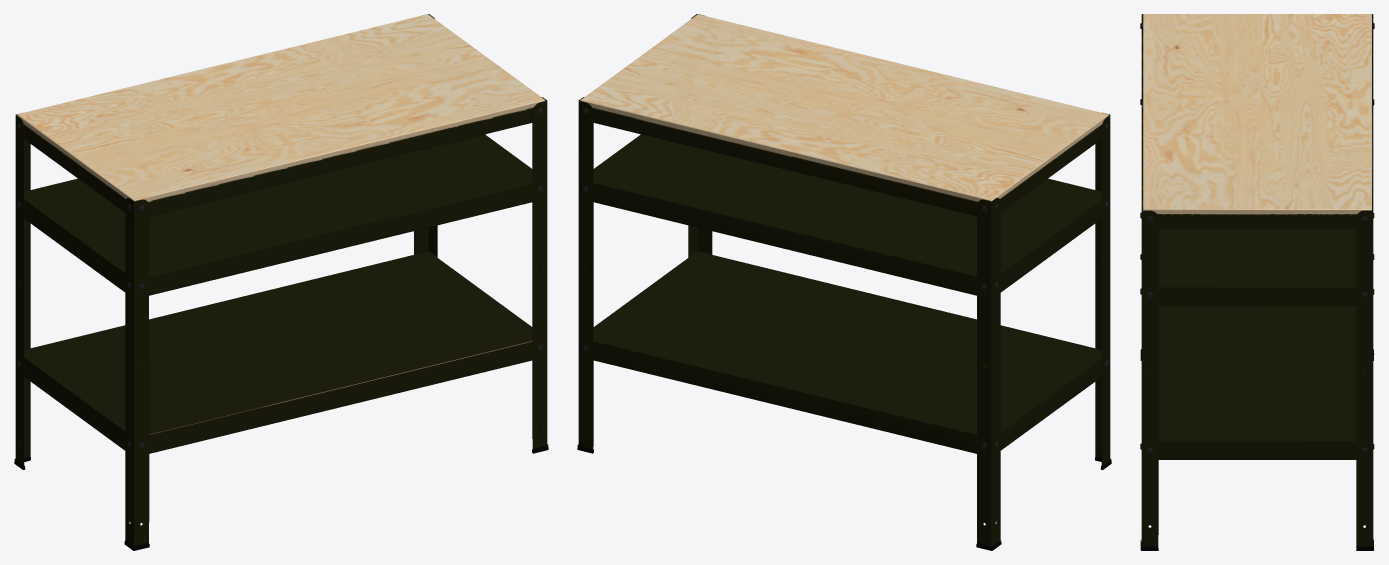
Rendered from 07 - BROR Work bench - blackpine plywood 110x55 cm.glb.
The picture shows the model from 3 angles, left to right: view 1: azimuth 30°, elevation 25°; view 2: azimuth 150°, elevation 25°; view 3: azimuth 270°, elevation 25°; orthographic projection. The views are drawn at different scales.
Bounding box in the file's own units: 1.1 × 0.8845 × 0.5508.
1 material, 1 textured.
